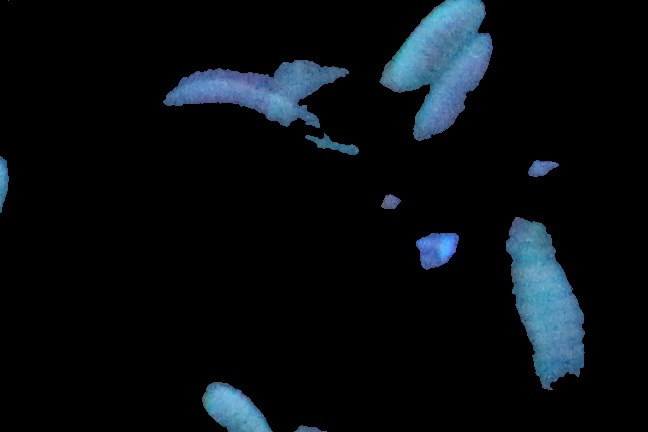larvae: (503, 201, 591, 404), (153, 74, 365, 154), (377, 1, 490, 89), (411, 36, 495, 150), (192, 378, 273, 432)
